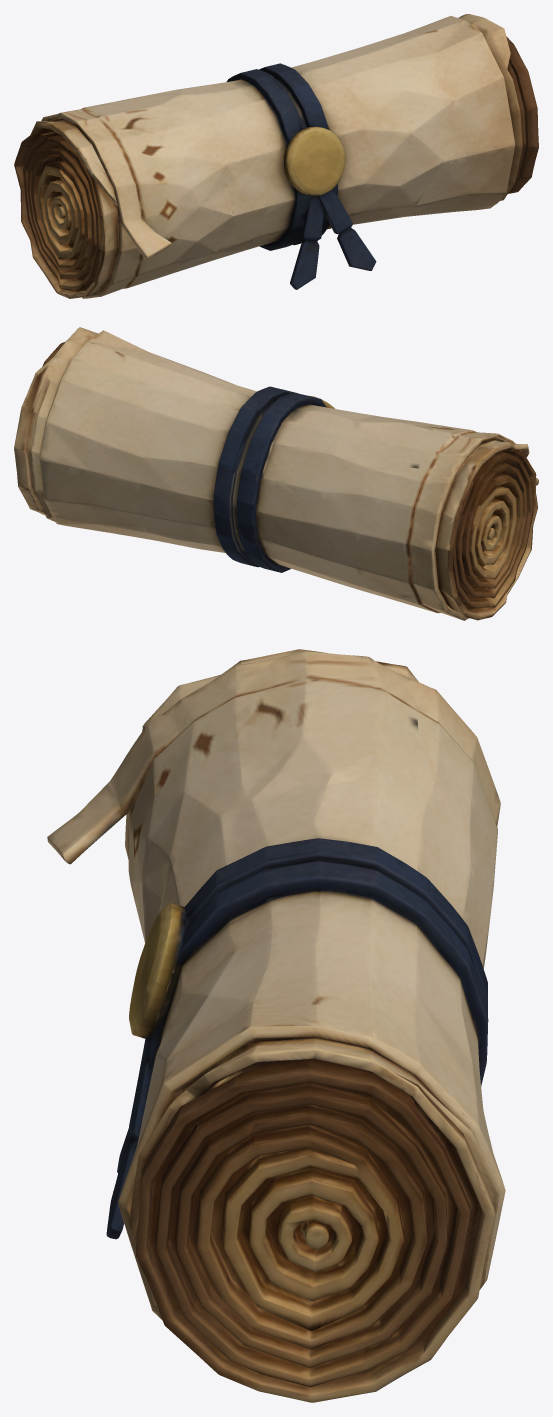
Rendered from short_scroll.glb.
The picture shows the model from 3 angles, top to bottom: view 1: azimuth 30°, elevation 25°; view 2: azimuth 150°, elevation 25°; view 3: azimuth 270°, elevation 25°; orthographic projection. The views are drawn at different scales.
Visible parts, largest first — view 1: node_0; view 2: node_0; view 3: node_0.
Boxes of the visible parts, x1,y1,x2,y2 form: node_0: (14,14,538,298); node_0: (14,327,538,620); node_0: (47,649,505,1402).
Size of the model in its own units: 1.1 by 0.4369 by 0.5008.
1 material, 1 textured.
